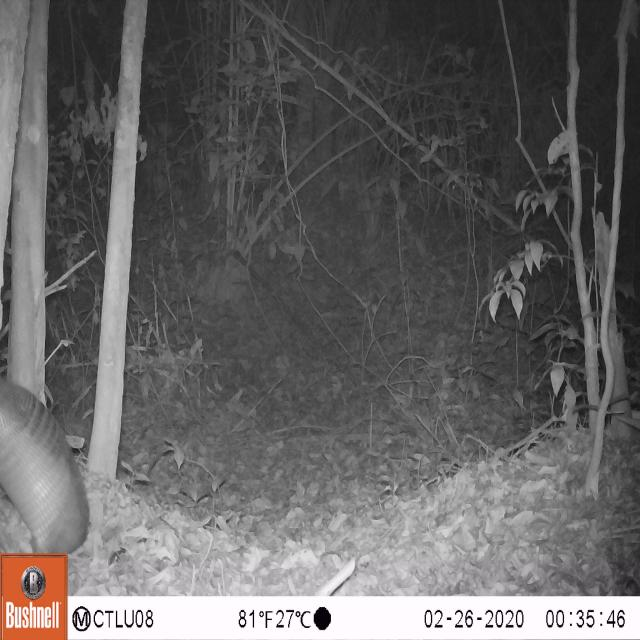Armadillo: (0, 364, 97, 554)
